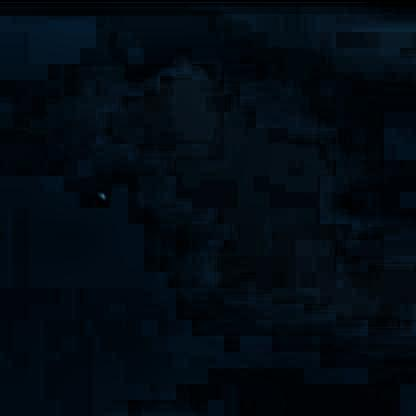golfball: (93, 191, 104, 202)
